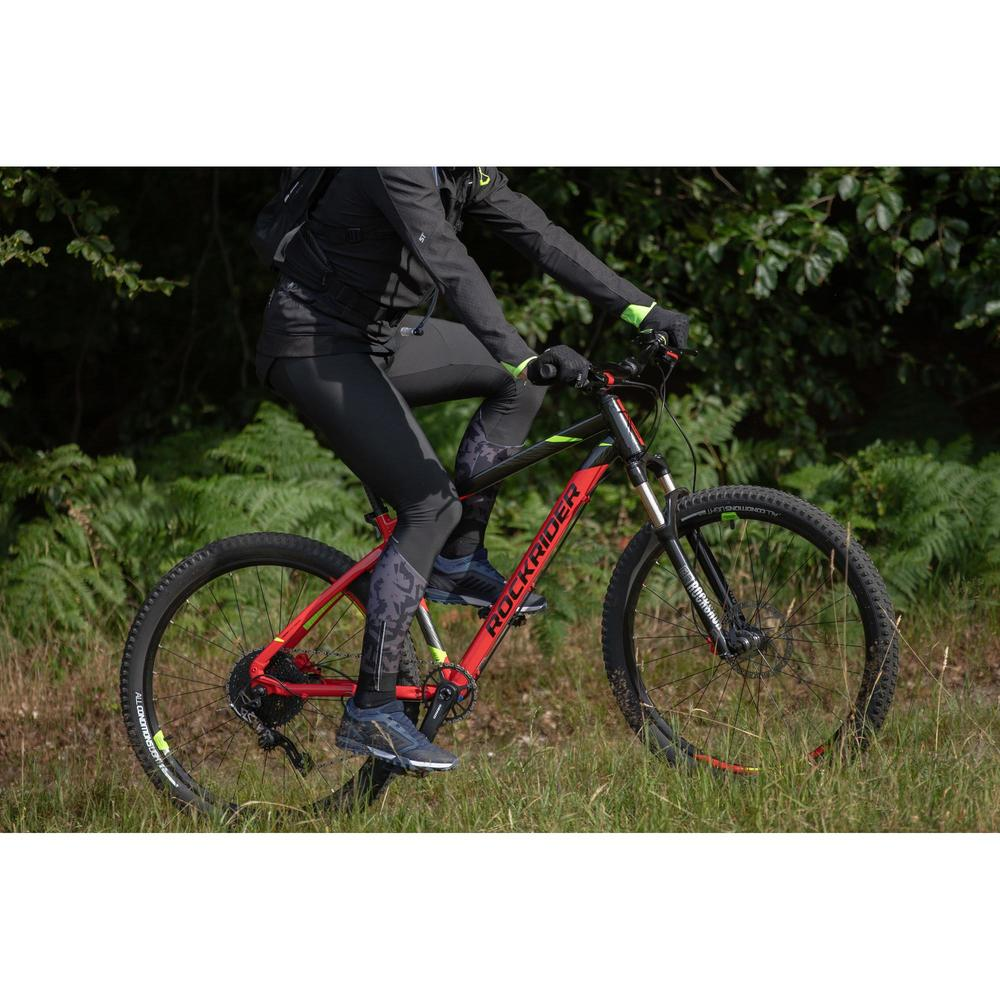MountainBike: (137, 268, 905, 821)
